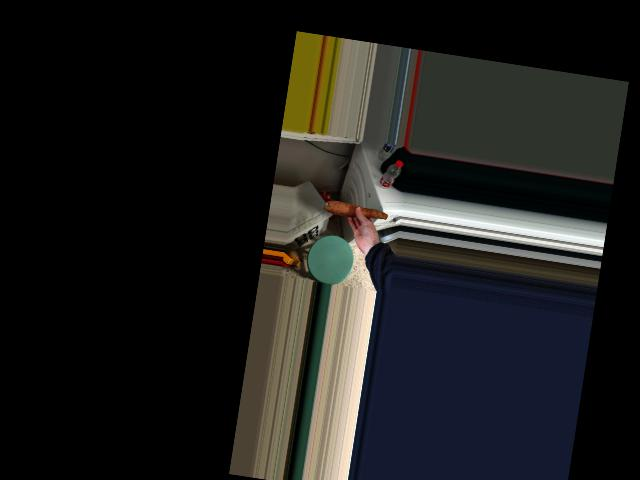sweet_potato: (324, 198, 390, 228)
